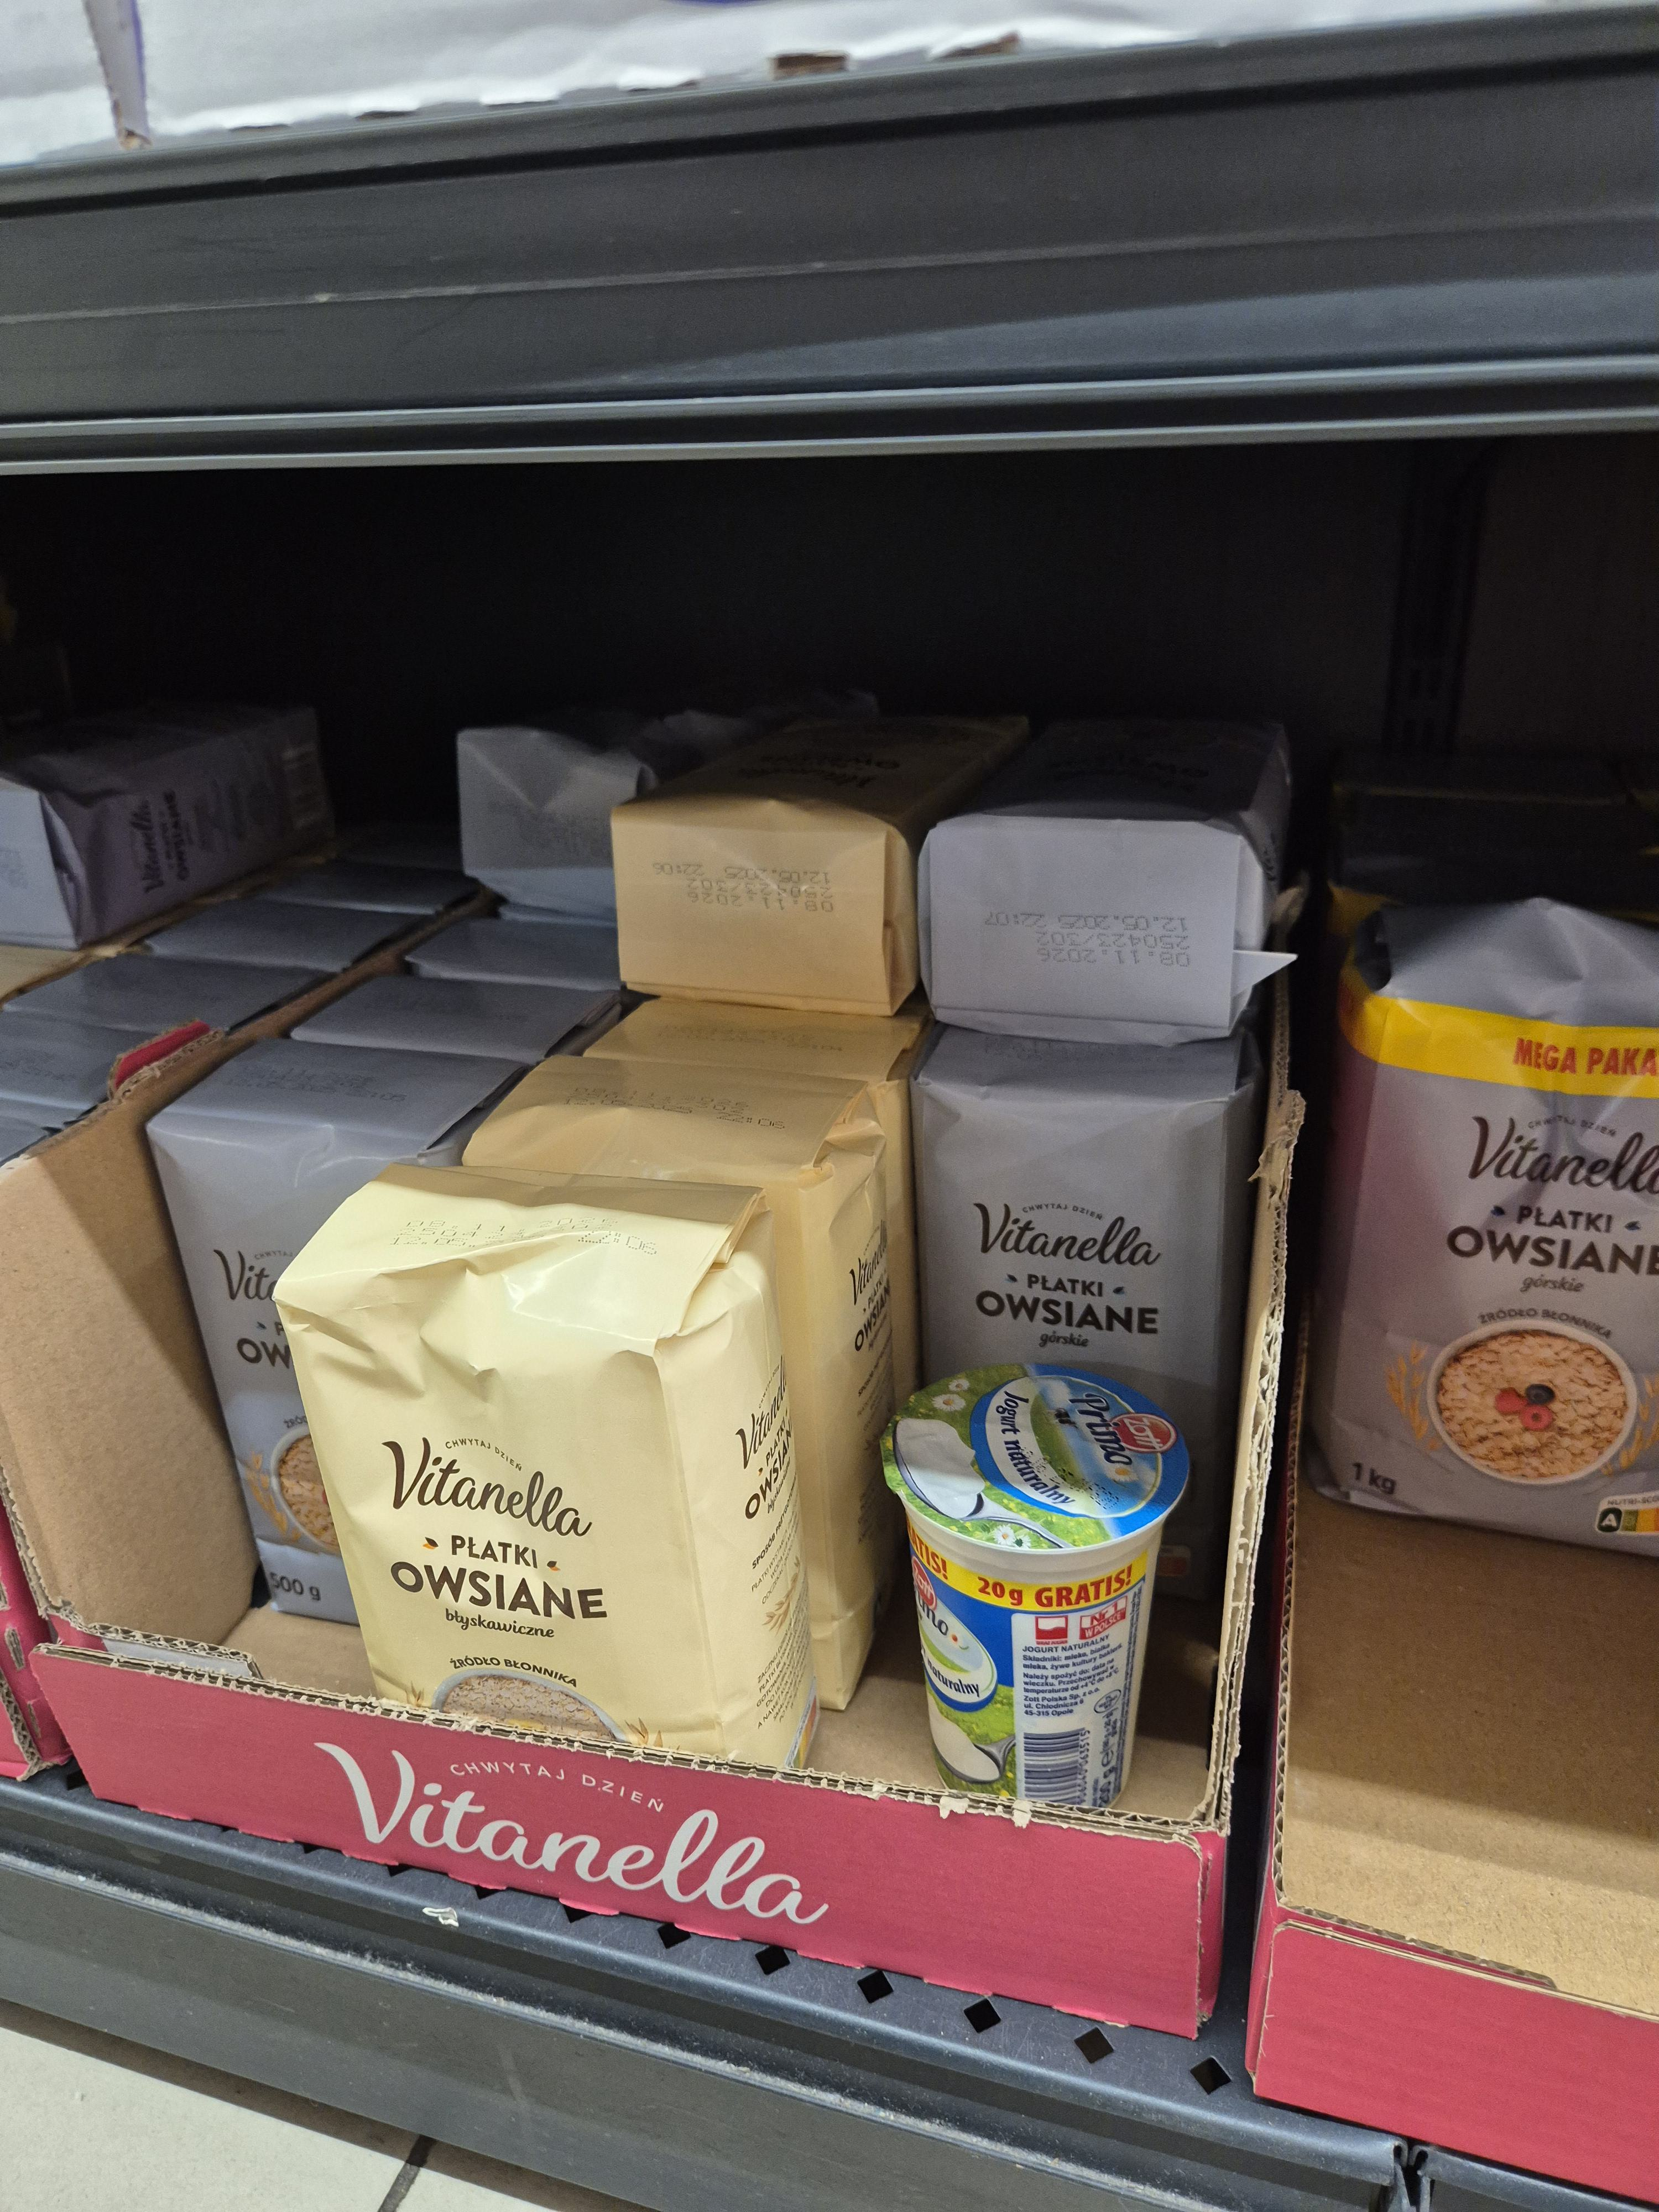Yogurt: (885, 1339, 1183, 1839)
